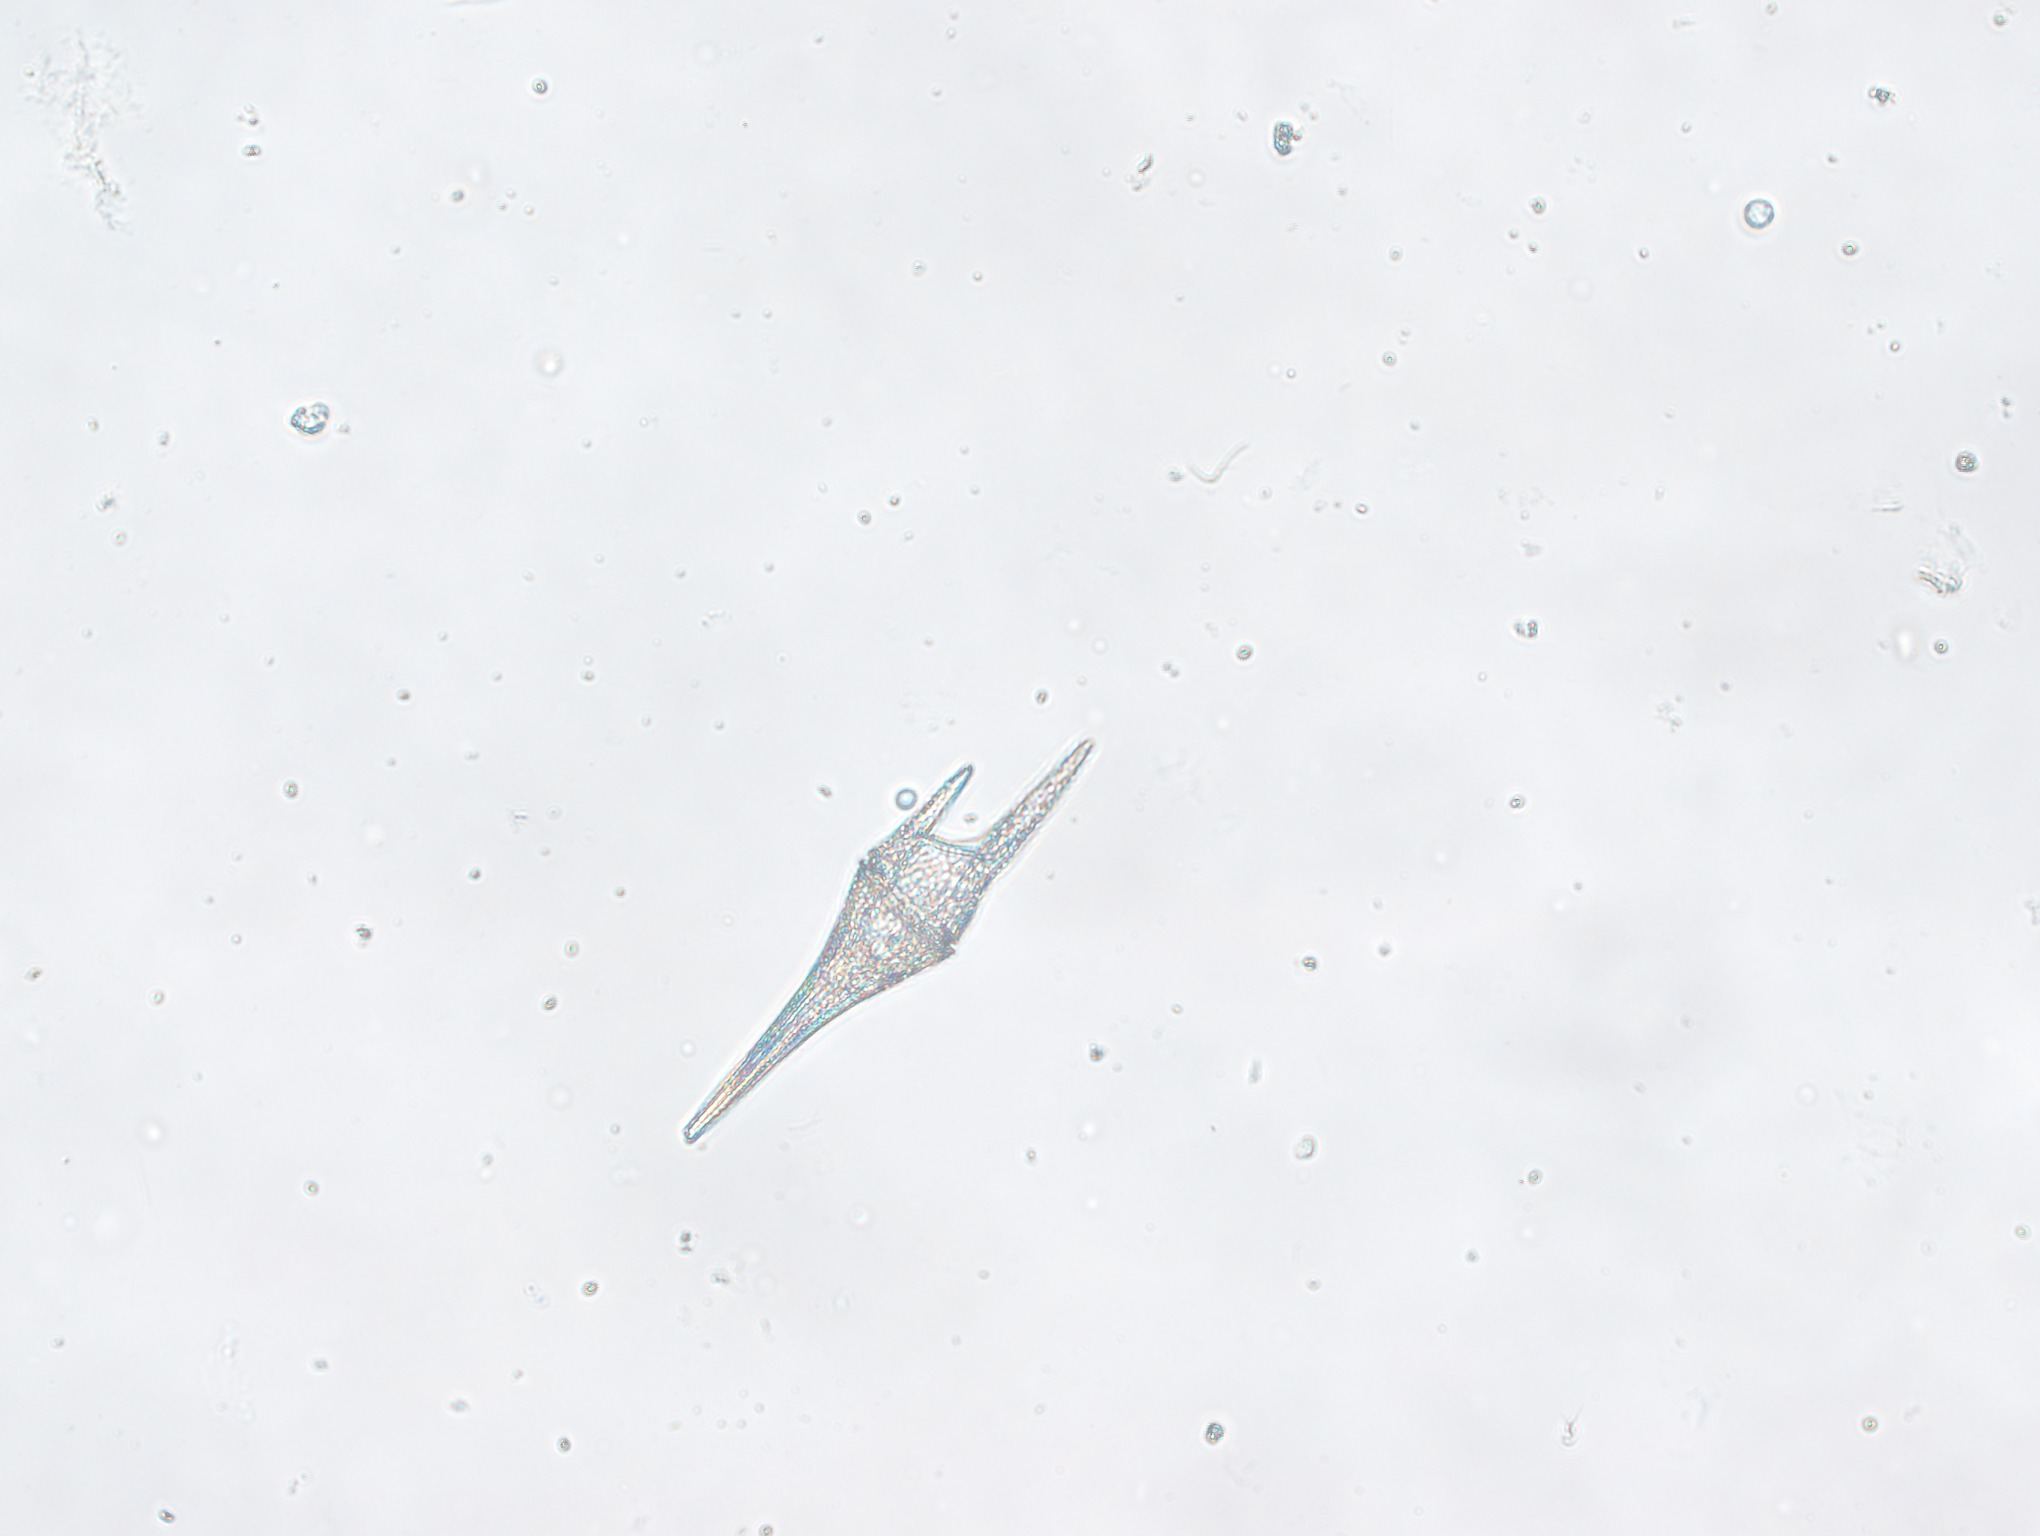ceratium furca: (674, 724, 1101, 1158)
